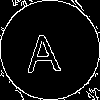A: (25, 25, 61, 73)
